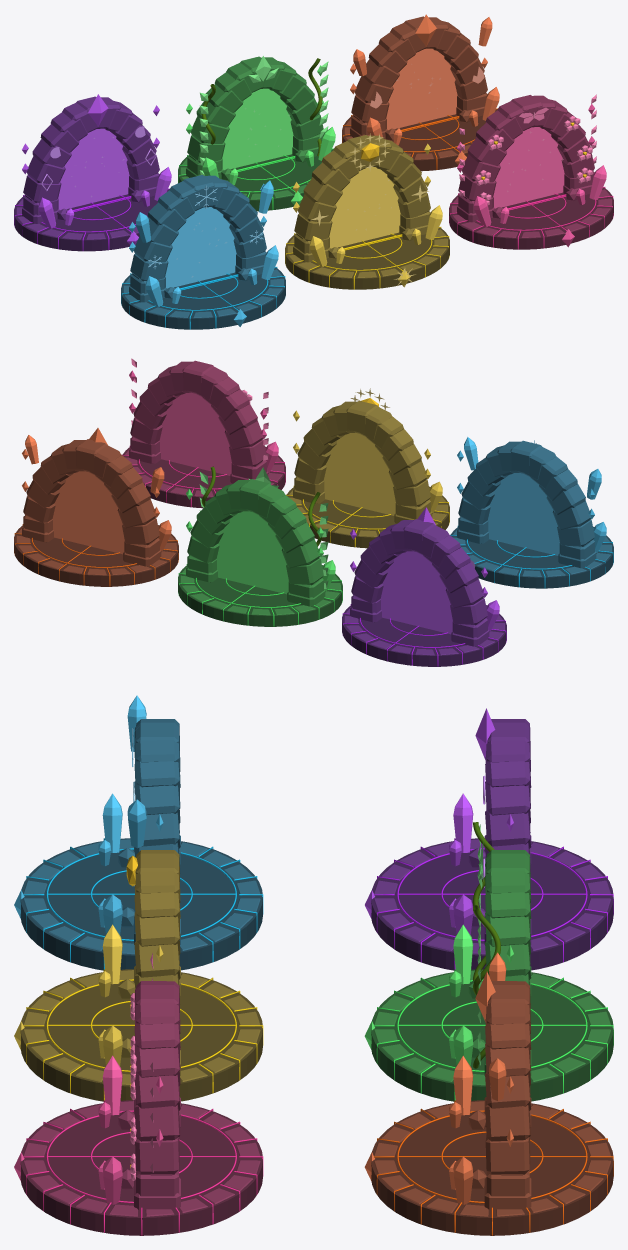
The model's file is portals-v6-no-textures.fbx.
The picture shows the model from 3 angles, top to bottom: view 1: azimuth 30°, elevation 25°; view 2: azimuth 150°, elevation 25°; view 3: azimuth 270°, elevation 25°; orthographic projection. The views are drawn at different scales.
Parts seen in each view (by area): view 1: Rose Blossom altar core, Frozen Ice altar core, Solar Gold altar core, Verdant Nature animated spiral, Arcane Violet animated spiral, Rose Blossom animated spiral, Blazing Fire animated spiral, Solar Gold animated spiral, Frozen Ice animated spiral, Arcane Violet altar core, Blazing Fire altar core, Verdant Nature altar core (+50 smaller); view 2: Blazing Fire altar core, Arcane Violet altar core, Verdant Nature altar core, Arcane Violet animated spiral, Blazing Fire animated spiral, Frozen Ice animated spiral, Solar Gold animated spiral, Verdant Nature animated spiral, Rose Blossom animated spiral, Frozen Ice altar core, Solar Gold altar core, Rose Blossom altar core (+62 smaller); view 3: Blazing Fire altar core, Rose Blossom altar core, Frozen Ice altar core, Verdant Nature altar core, Solar Gold altar core, Arcane Violet altar core, Arch block 01.002, Arch block 01.005, Arch block 02.002, Arch block 02.005, Arch block 03, Arch block 03.004 (+40 smaller).
Part boxes in pixels (x1,y1,x2,y2): Rose Blossom altar core: (449,187,613,249); Frozen Ice altar core: (121,267,285,329); Solar Gold altar core: (285,227,449,289); Verdant Nature animated spiral: (222,88,293,170); Arcane Violet animated spiral: (58,128,129,210); Rose Blossom animated spiral: (493,127,564,208); Blazing Fire animated spiral: (386,48,457,130); Solar Gold animated spiral: (329,167,400,248); Frozen Ice animated spiral: (165,207,236,288); Arcane Violet altar core: (14,189,169,251); Blazing Fire altar core: (342,109,497,171); Verdant Nature altar core: (178,149,333,211); Blazing Fire altar core: (14,525,178,586); Arcane Violet altar core: (342,605,506,666); Verdant Nature altar core: (178,565,342,626); Arcane Violet animated spiral: (380,551,452,634); Blazing Fire animated spiral: (52,471,124,554); Frozen Ice animated spiral: (487,473,559,555); Solar Gold animated spiral: (323,432,395,515); Verdant Nature animated spiral: (216,511,288,594); Rose Blossom animated spiral: (159,392,231,475); Frozen Ice altar core: (450,526,613,588); Solar Gold altar core: (286,486,449,548); Rose Blossom altar core: (122,446,285,508); Blazing Fire altar core: (371,1100,613,1235); Rose Blossom altar core: (20,1100,262,1235); Frozen Ice altar core: (20,838,262,970); Verdant Nature altar core: (371,969,613,1101); Solar Gold altar core: (20,969,262,1101); Arcane Violet altar core: (371,838,613,970); Arch block 01.002: (485,1135,530,1174); Arch block 01.005: (135,1137,179,1174); Arch block 02.002: (485,1105,530,1141); Arch block 02.005: (134,1105,180,1141); Arch block 03: (485,810,531,848); Arch block 03.004: (134,941,180,979).
Bounding box in the file's own units: 2002 × 521 × 1335.
